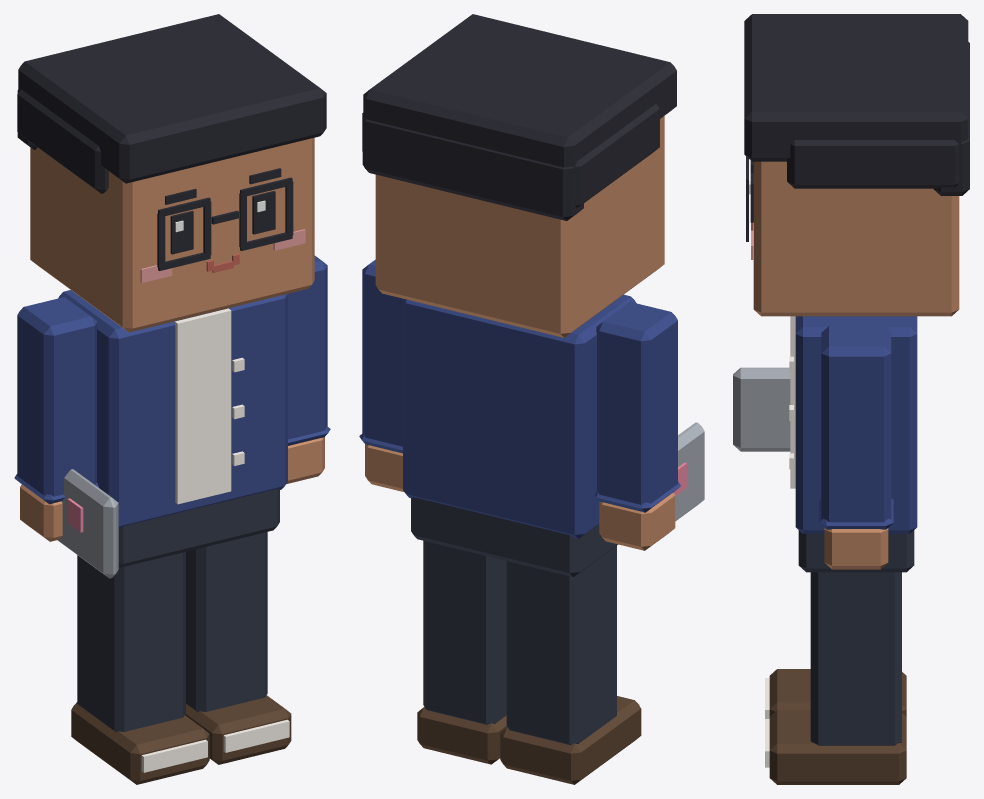
File: CatCafe_NPC_Customer_I.glb
3 renders of one model, left to right at view 1: azimuth 30°, elevation 25°; view 2: azimuth 150°, elevation 25°; view 3: azimuth 270°, elevation 25°, orthographic. The views are drawn at different scales.
Parts seen in each view (by area): view 1: CatCafe_NPC_Customer_I; view 2: CatCafe_NPC_Customer_I; view 3: CatCafe_NPC_Customer_I.
Boxes of the visible parts, box(x1,y1,x2,y2) form: CatCafe_NPC_Customer_I: box(14, 14, 330, 784); CatCafe_NPC_Customer_I: box(359, 14, 704, 784); CatCafe_NPC_Customer_I: box(733, 14, 969, 784).
Size of the model in its own units: 2.25 by 4.96 by 1.56.
Materials: 1 (1 with a texture image).
